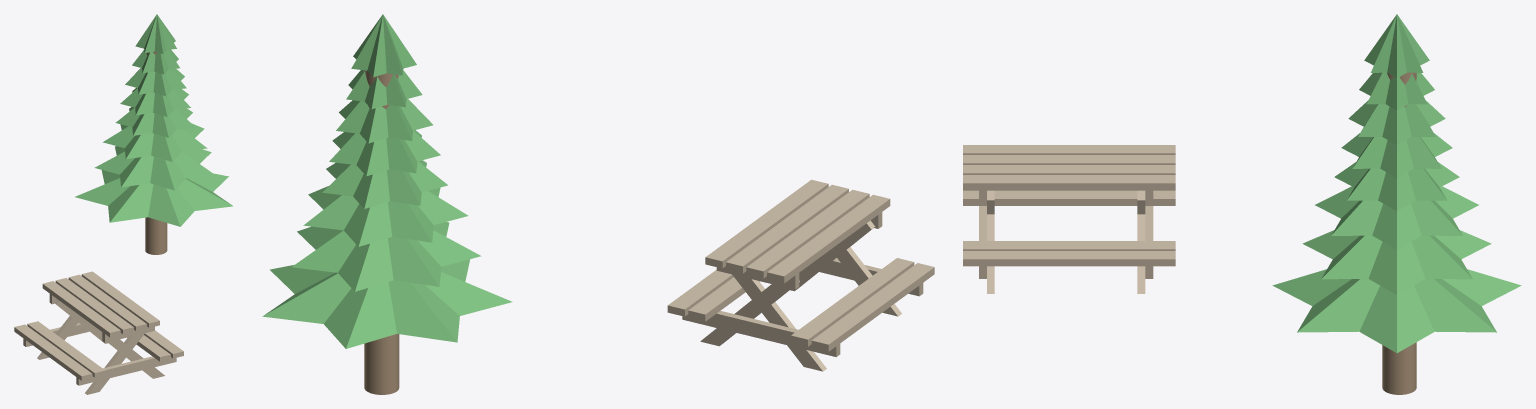
The model's file is tree_table.glb.
The picture shows the model from 3 angles, left to right: view 1: azimuth 30°, elevation 25°; view 2: azimuth 150°, elevation 25°; view 3: azimuth 270°, elevation 25°; orthographic projection. The views are drawn at different scales.
Visible parts, largest first — view 1: Mesh_Mesh_head_geo.001_lambert2SG.001; view 2: Mesh_Mesh_head_geo.001_lambert2SG.001; view 3: Mesh_Mesh_head_geo.001_lambert2SG.001.
Part boxes in pixels (x1,y1,x2,y2): Mesh_Mesh_head_geo.001_lambert2SG.001: [14, 14, 232, 394]; Mesh_Mesh_head_geo.001_lambert2SG.001: [262, 14, 934, 394]; Mesh_Mesh_head_geo.001_lambert2SG.001: [963, 14, 1521, 394].
Bounding box in the file's own units: 0.131 × 0.104 × 0.141.
